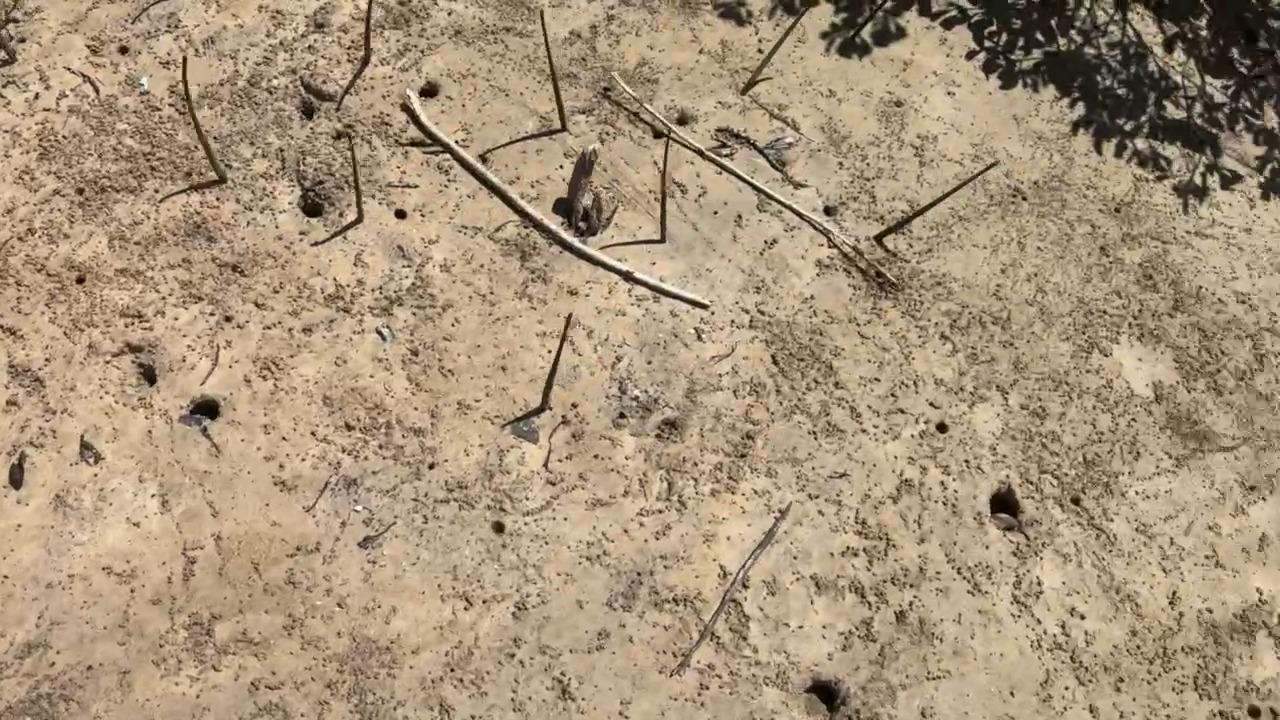Tree: (872, 160, 1003, 243), (739, 2, 812, 97), (181, 55, 229, 183), (539, 6, 569, 132), (540, 312, 574, 411), (659, 128, 681, 246), (342, 127, 366, 224), (363, 0, 374, 64)
